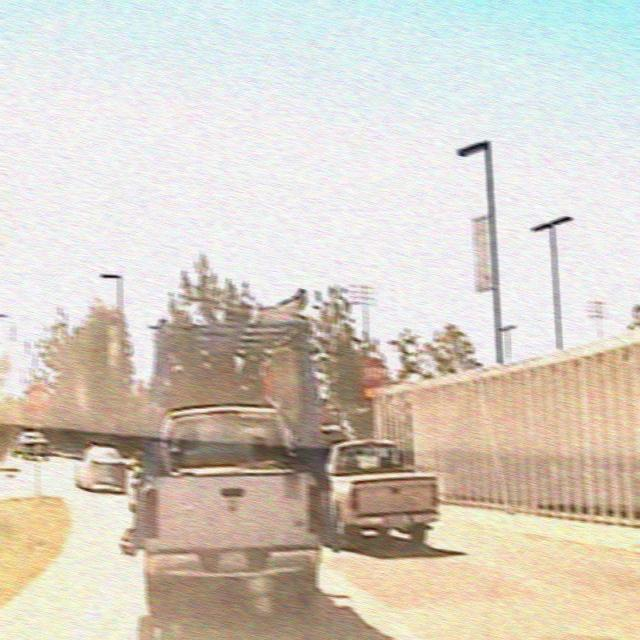stop_sign: (362, 354, 387, 390), (25, 381, 50, 416)
